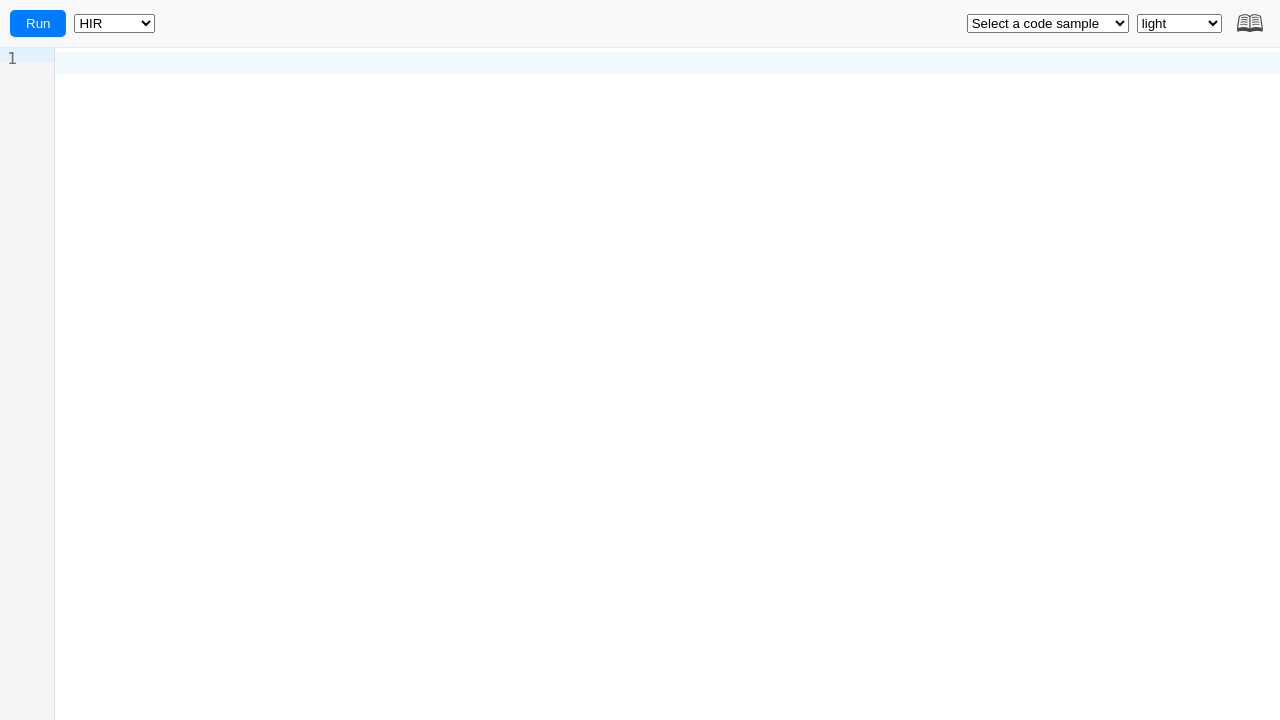
Test: App › shows physical preparation errors in the IR pane
The width and height of the screenshot is (1280, 720).
Select "phy. MIR" in the 1st dropdown. click: (115, 24)
box: [74,14,156,33]
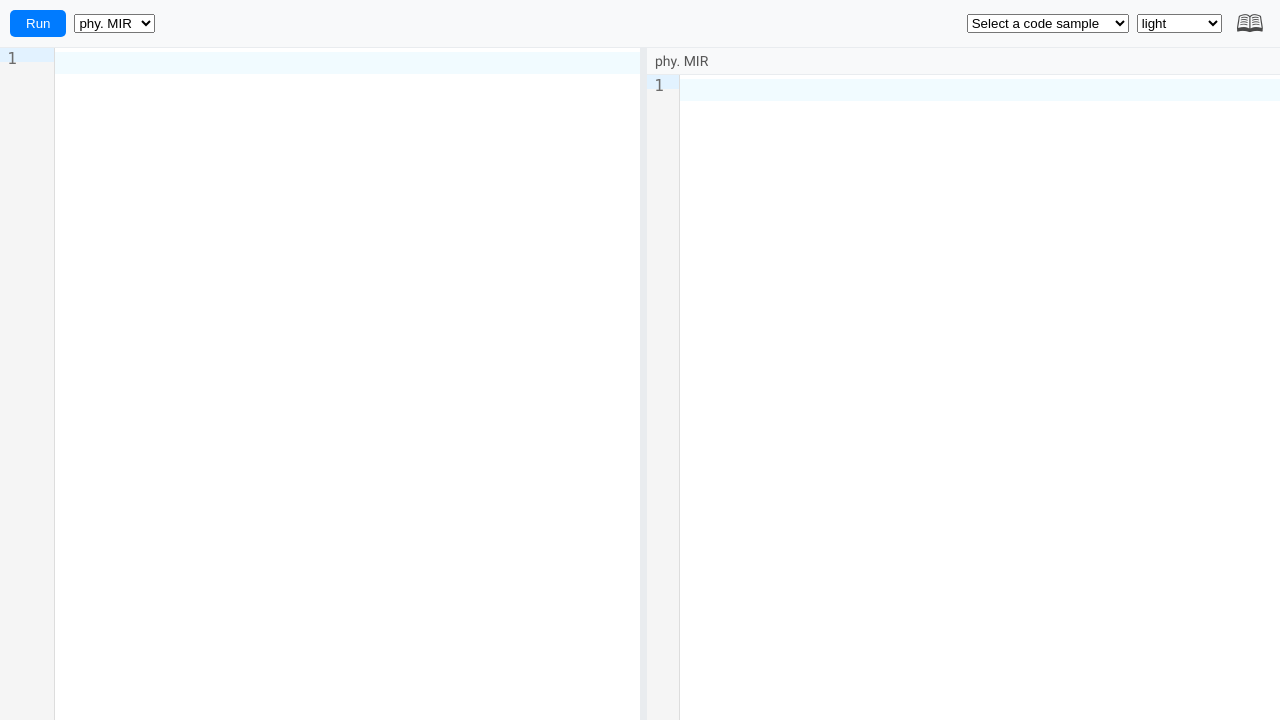
Select "Factorial" in the 2nd dropdown. click: (1048, 24)
box: [967,14,1129,33]
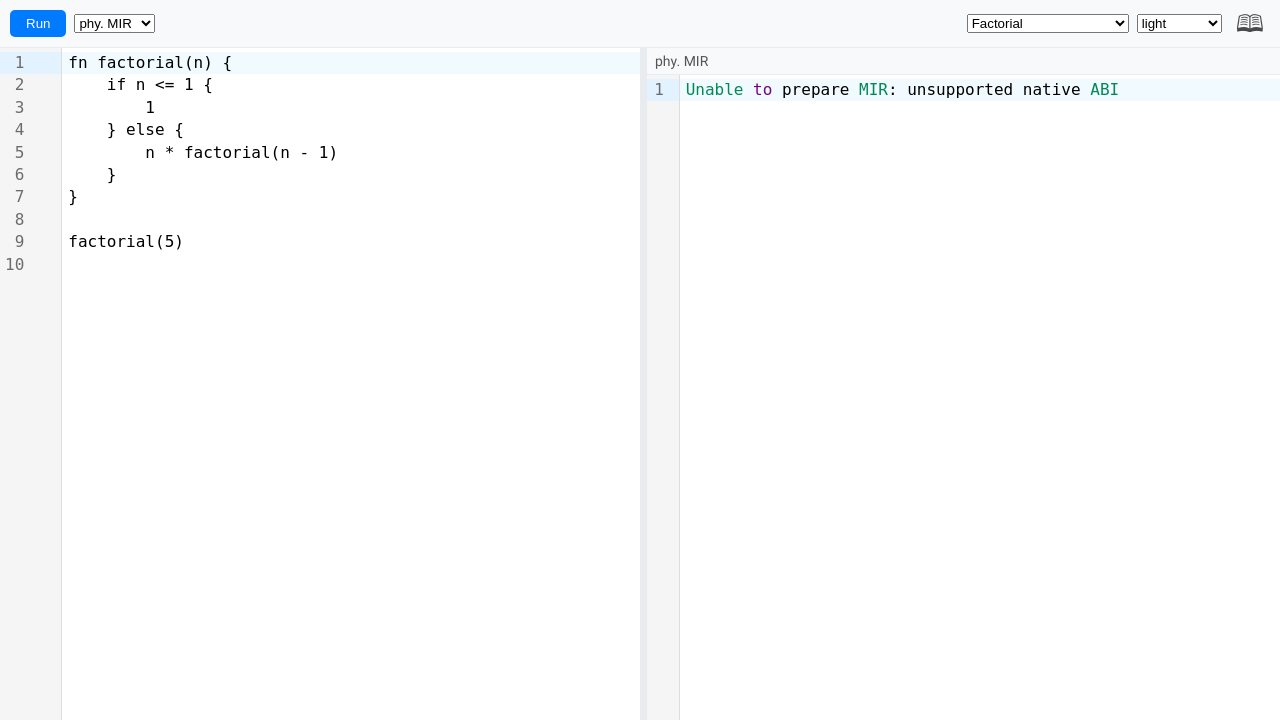
Result: the element showing "Unable to prepare MIR: unsupported native ABI" is shown at [680,79,1279,101]
